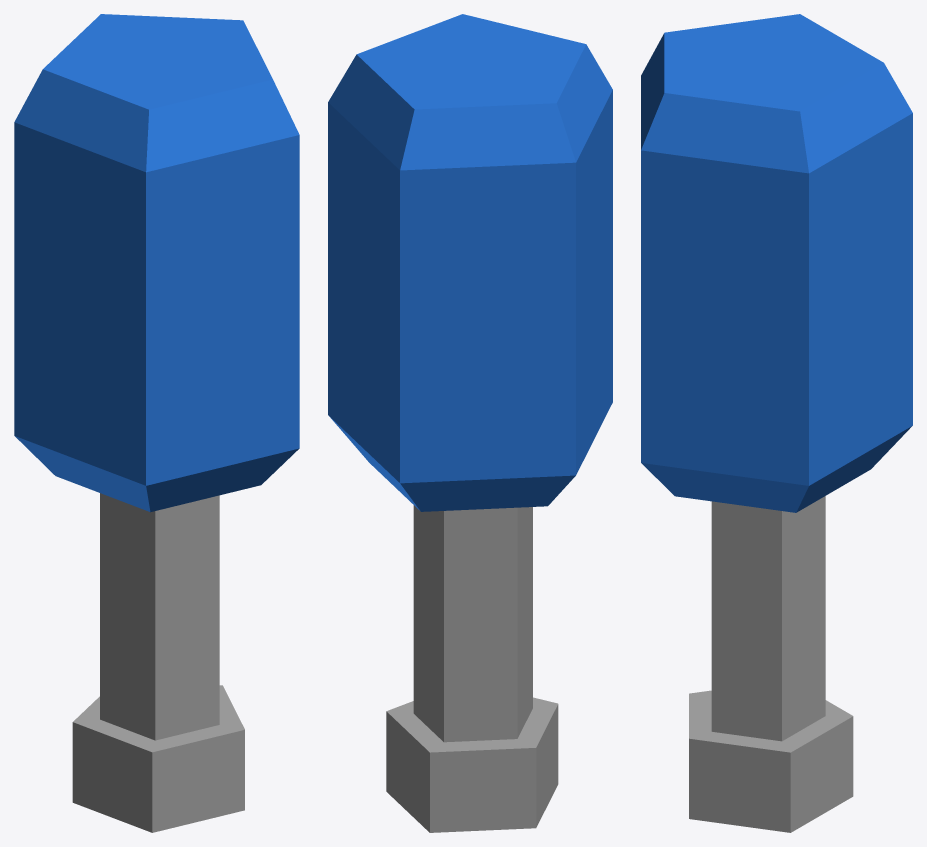
File: Screwdriver.glb
The picture shows the model from 3 angles, left to right: view 1: azimuth 30°, elevation 25°; view 2: azimuth 150°, elevation 25°; view 3: azimuth 270°, elevation 25°; orthographic projection.
Parts seen in each view (by area): view 1: Cylinder.002; view 2: Cylinder.002; view 3: Cylinder.002.
Boxes of the visible parts, box(x1,y1,x2,y2) form: Cylinder.002: box(14, 14, 299, 832); Cylinder.002: box(328, 14, 612, 832); Cylinder.002: box(641, 14, 912, 832).
Bounding box in the file's own units: 0.1265 × 0.3582 × 0.1204.
